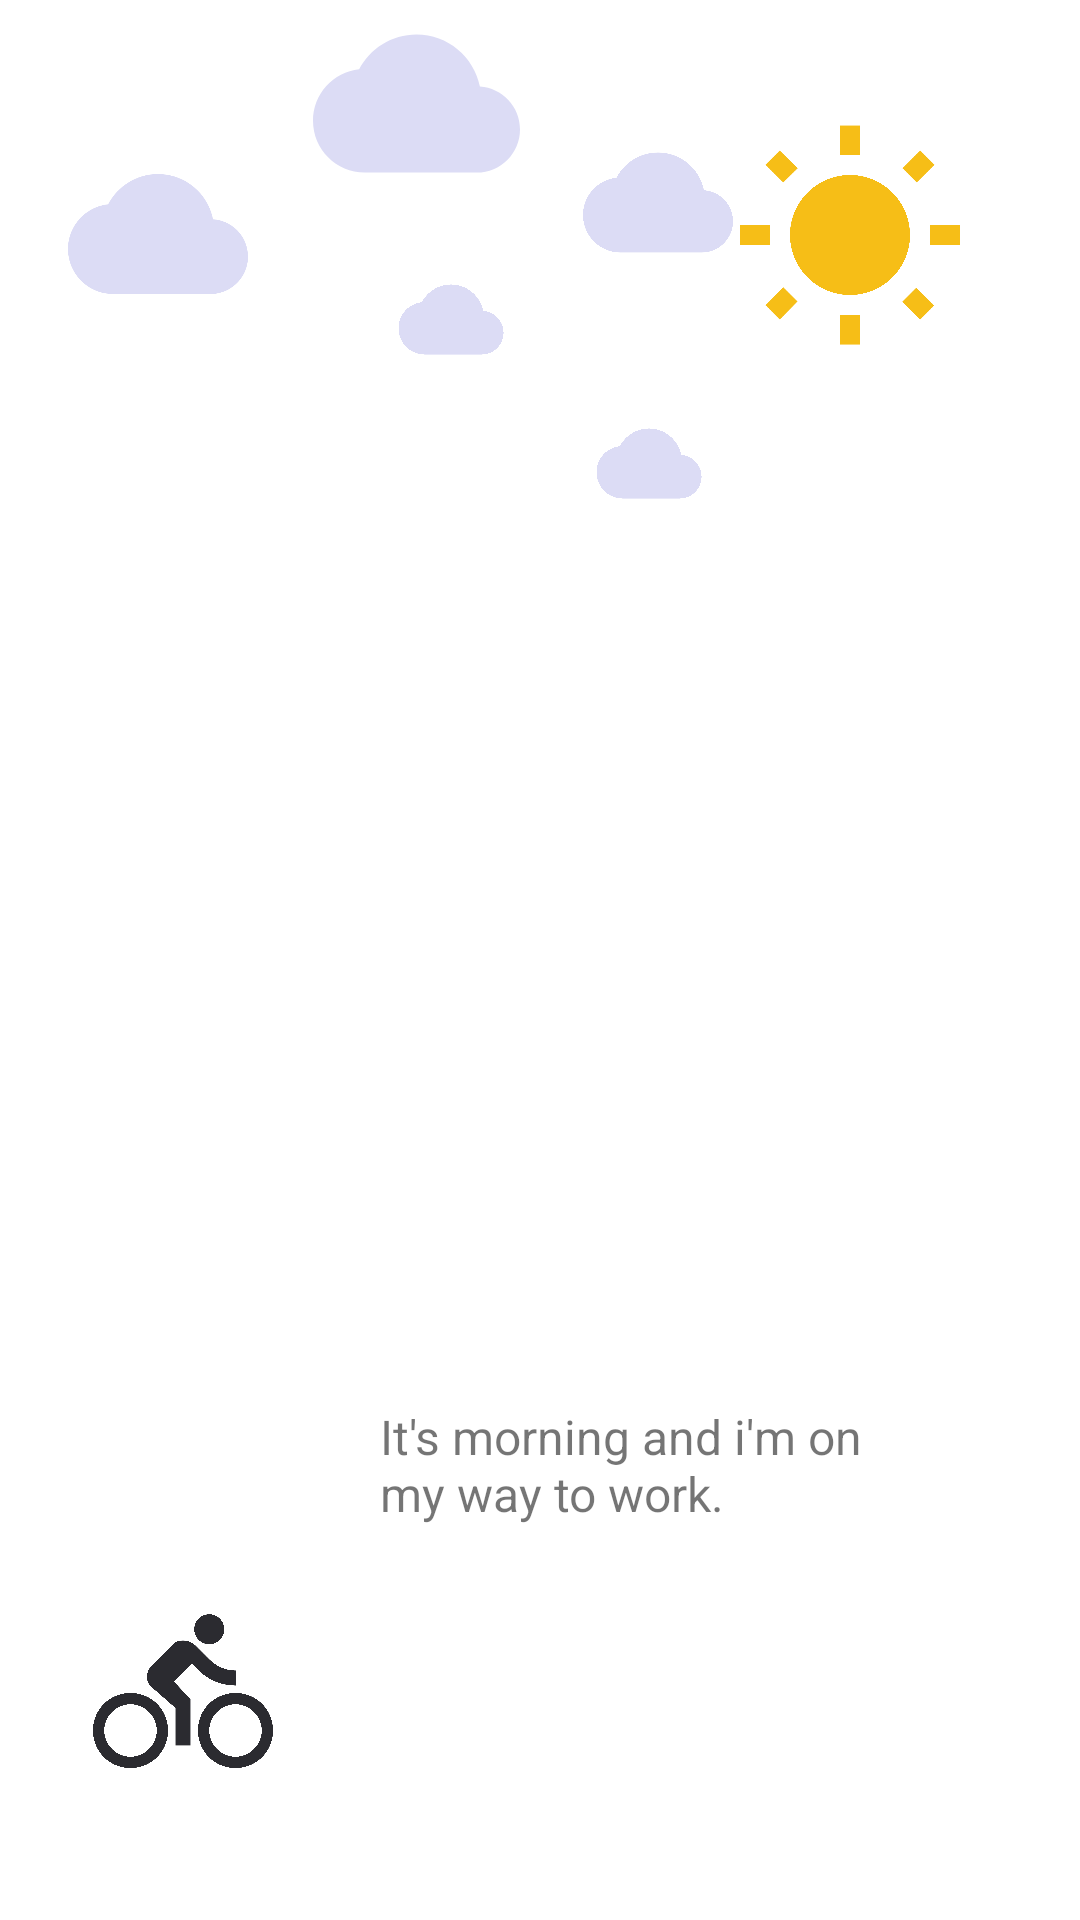

Locate icon controls on the screen. Image size 1080x1920, boxes as (x1, y1, x2, y2).
directions bike: (93, 1614, 273, 1768)
sunny: (740, 125, 960, 345)
